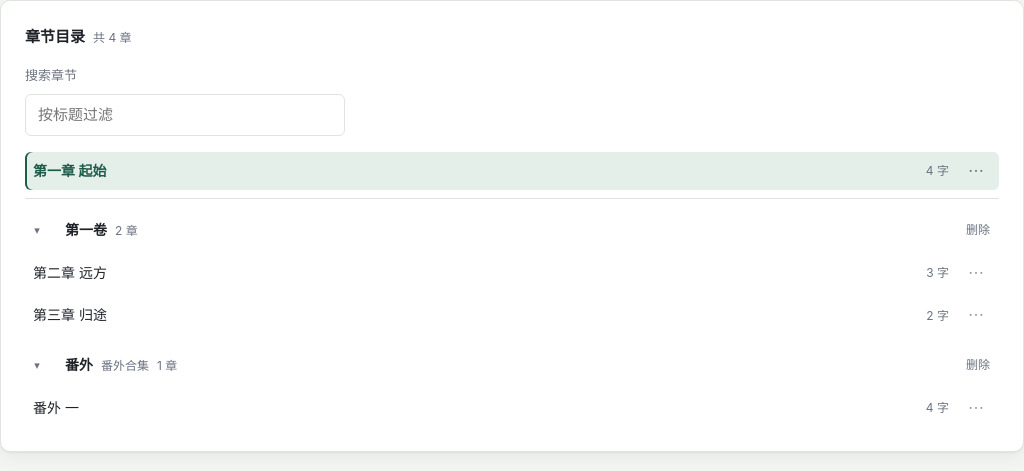
Test: ChapterTree › shows an empty result message when nothing matches
Type "不存在的章节" into the search field with test id "search" at {"x": 185, "y": 115}, box x1=25 y1=94 x2=345 y2=136
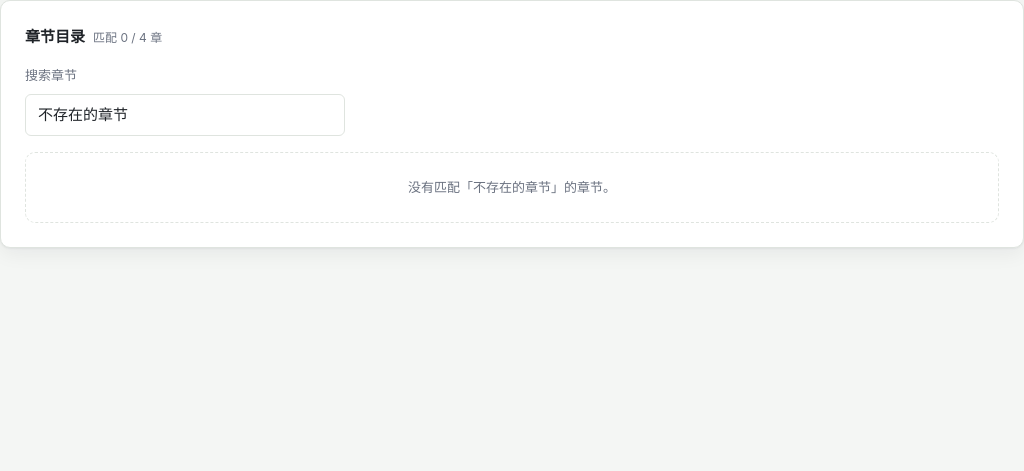
Expected: no list items with test id "chapter-row" are shown
Expected: the text with test id "empty-result" shows "没有匹配", x1=408 y1=179 x2=616 y2=195
